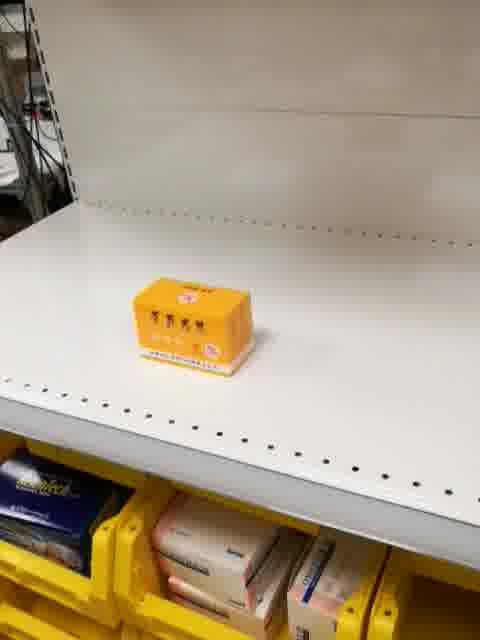jasminetea: (132, 277, 254, 377)
